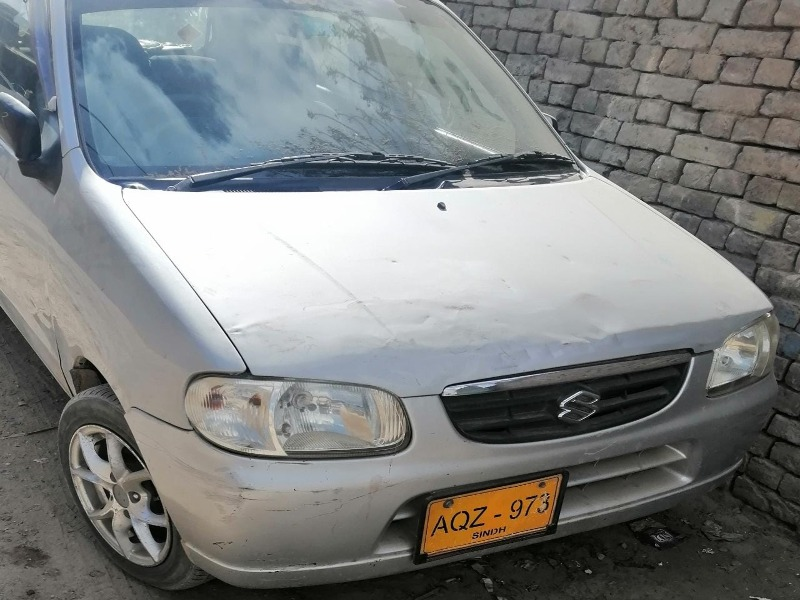License Plate: (418, 472, 563, 560)
